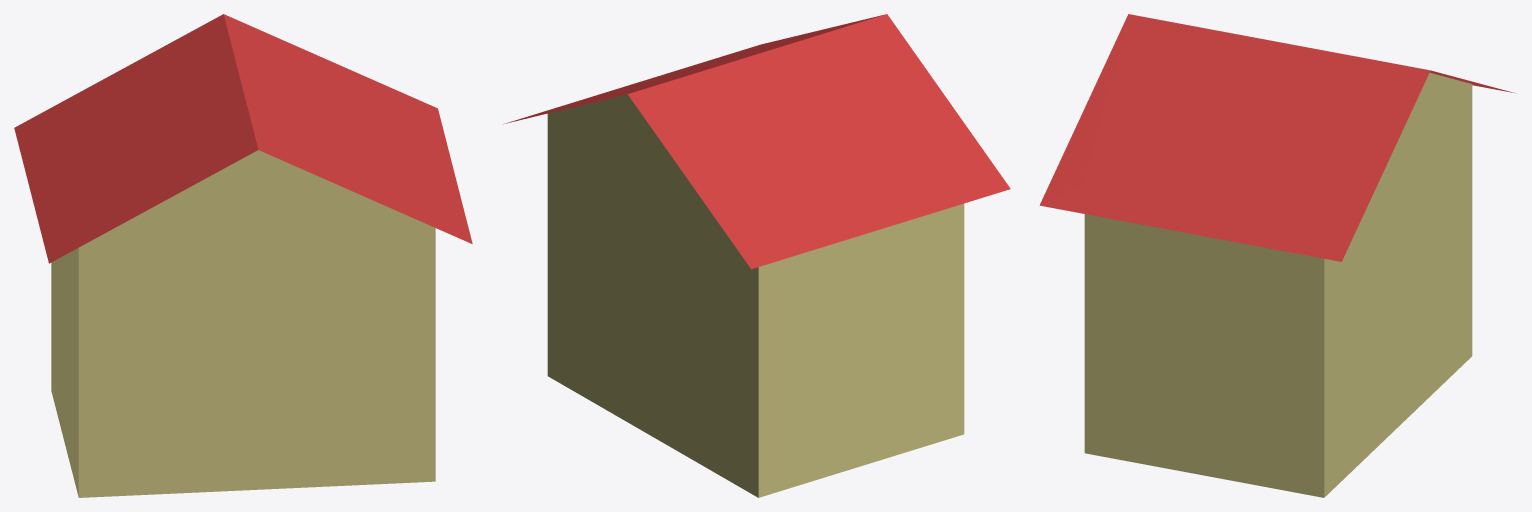
3 views of the same model, side by side, from view 1: azimuth 30°, elevation 25°; view 2: azimuth 150°, elevation 25°; view 3: azimuth 270°, elevation 25° (orthographic). The views are drawn at different scales.
Size of the model in its own units: 15.51 by 13.95 by 11.64.
